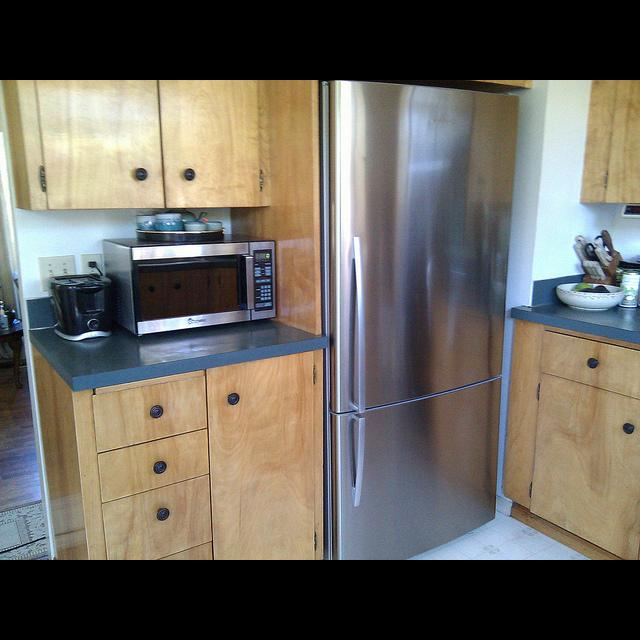Microwave: (103, 232, 276, 335)
Refrigerator: (320, 83, 523, 555)
